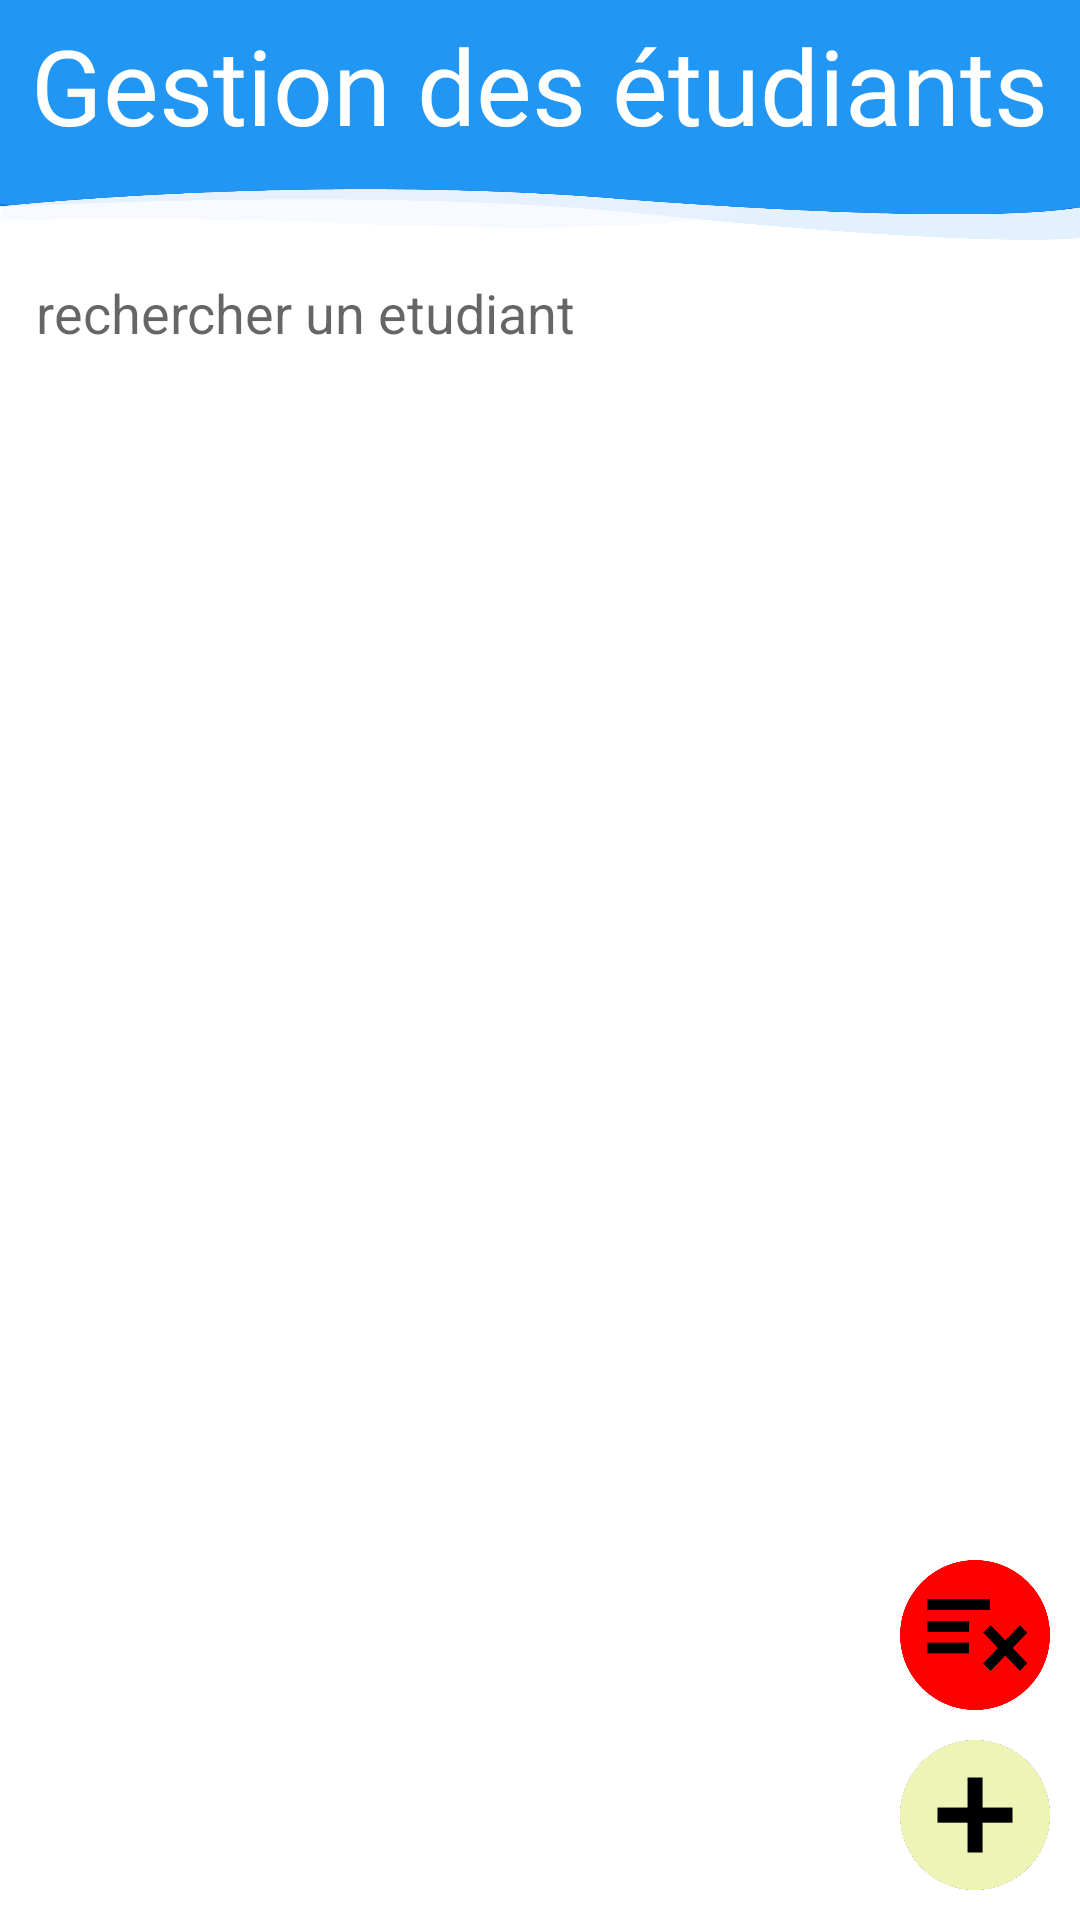

Icon click points for this 1080px×1920px phone screenshot, format point (x, y):
addbtn: point (975, 1815)
rmvall: point (975, 1635)
